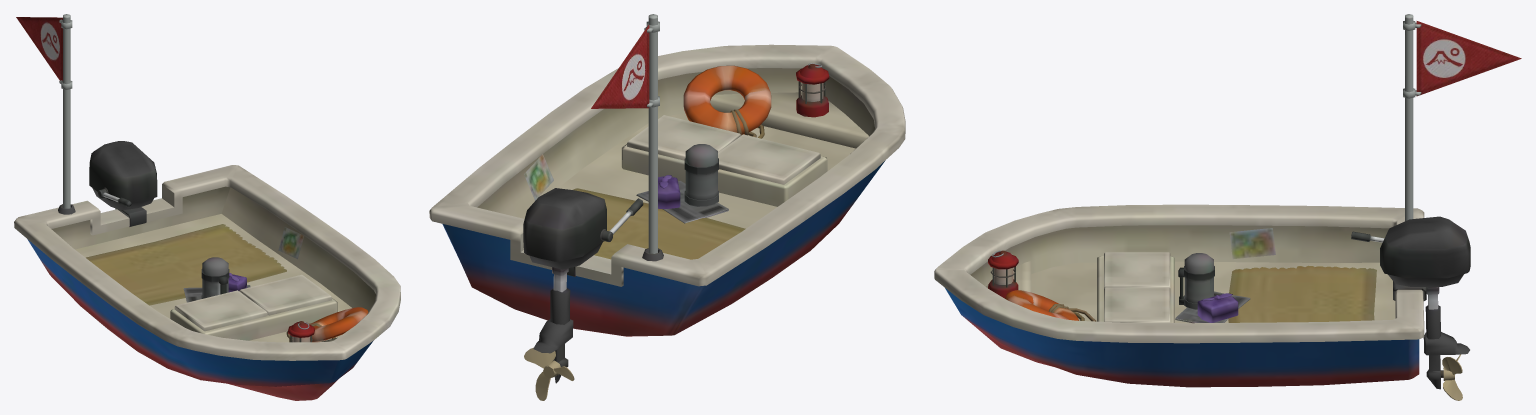
Rendered from boat.glb.
3 views of the same model, side by side, from view 1: azimuth 30°, elevation 25°; view 2: azimuth 150°, elevation 25°; view 3: azimuth 270°, elevation 25° (orthographic). The views are drawn at different scales.
Parts seen in each view (by area): view 1: StrcKppShip_node12, StrcKppShip_node13; view 2: StrcKppShip_node12, StrcKppShip_node13; view 3: StrcKppShip_node12, StrcKppShip_node13.
Part boxes in pixels (<box>): StrcKppShip_node12: <box>14,141,400,400</box>; StrcKppShip_node13: <box>16,14,72,208</box>; StrcKppShip_node12: <box>429,44,905,400</box>; StrcKppShip_node13: <box>591,14,659,253</box>; StrcKppShip_node12: <box>934,204,1470,400</box>; StrcKppShip_node13: <box>1403,14,1521,221</box>.
Size of the model in its own units: 20.24 by 25.23 by 38.66.
2 materials, 2 textured.
